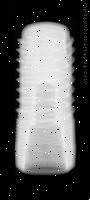Euroteknika: (13, 20, 77, 175)
